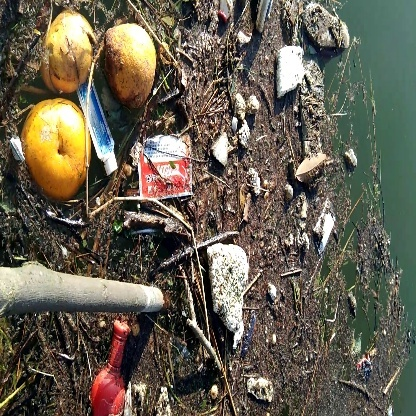ball: (17, 96, 95, 205)
plastic-bag: (137, 131, 198, 207)
